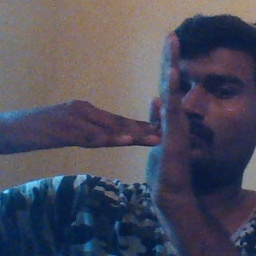Z: (100, 31, 194, 196)
